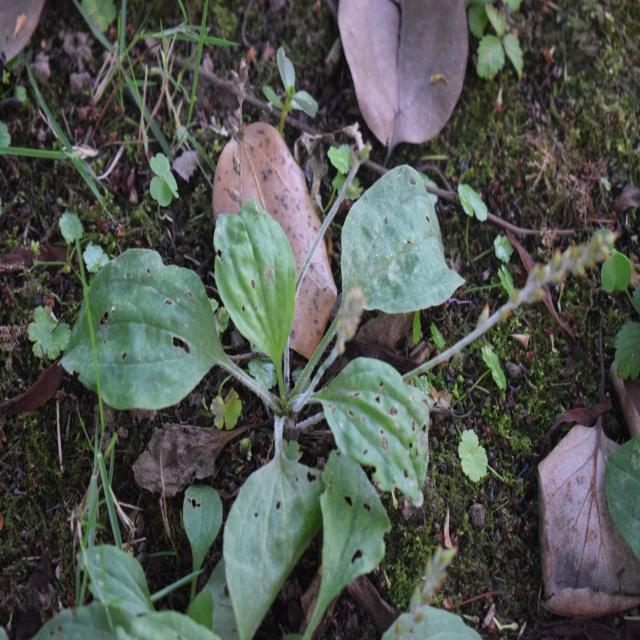plantain: (60, 183, 467, 554)
